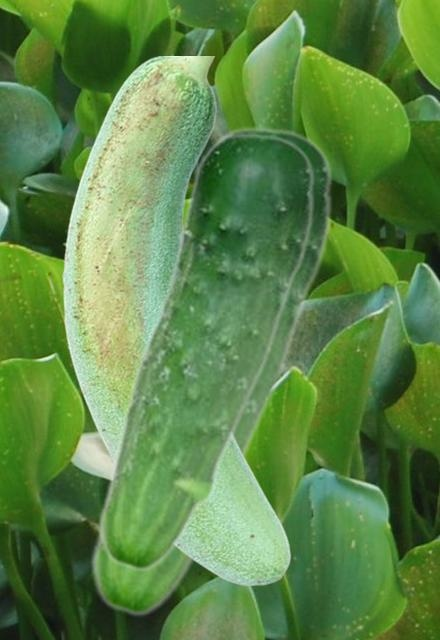cucumber: (62, 56, 290, 585), (88, 126, 333, 616), (96, 132, 315, 571)
